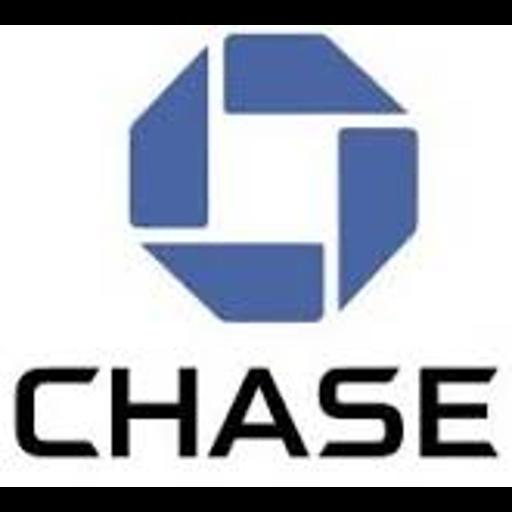Chase Personal Banking: (0, 25, 512, 487)
